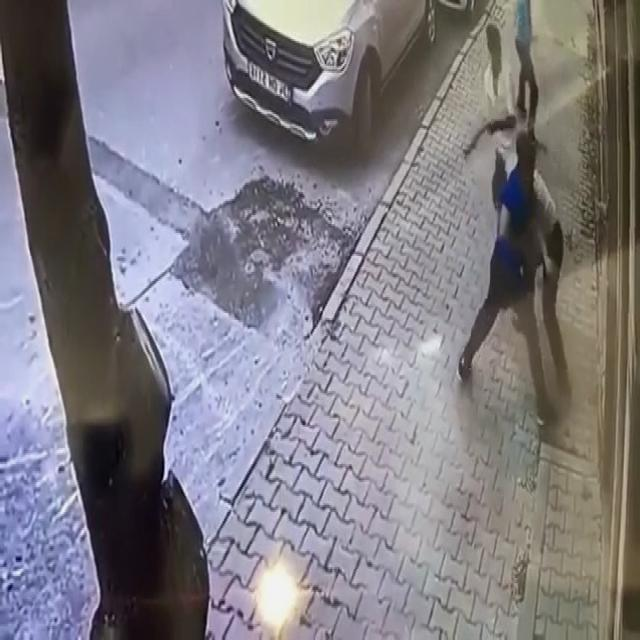fight: (461, 128, 567, 448)
